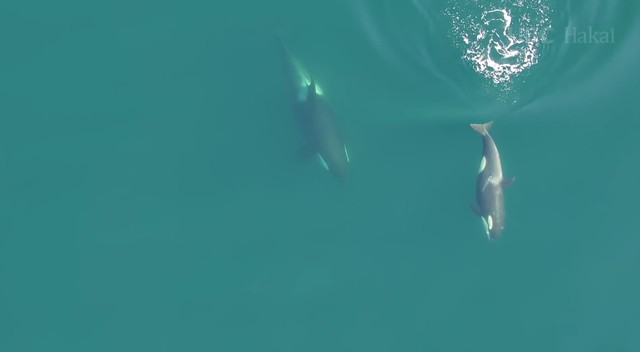whale: (258, 20, 363, 193), (466, 115, 516, 251)
